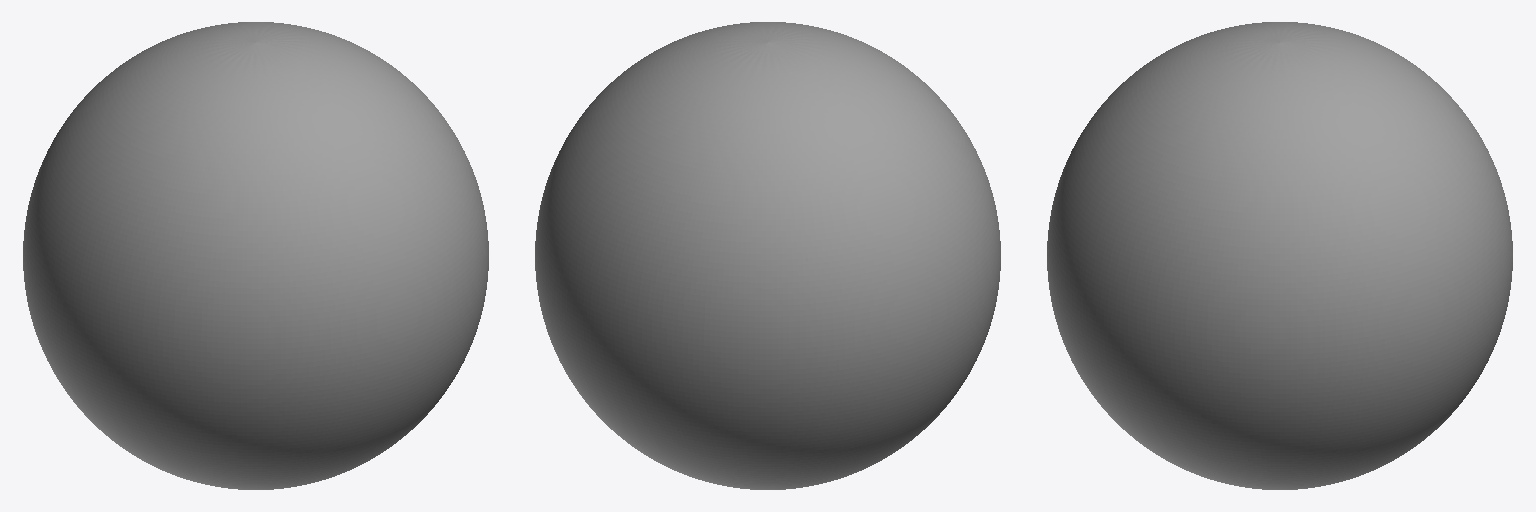
File: EARTH.obj
3 renders of one model, left to right at view 1: azimuth 30°, elevation 25°; view 2: azimuth 150°, elevation 25°; view 3: azimuth 270°, elevation 25°, orthographic.
Visible parts, largest first — view 1: Sphere.001; view 2: Sphere.001; view 3: Sphere.001.
Part boxes in pixels (x1,y1,x2,y2): Sphere.001: (23,22,488,489); Sphere.001: (535,22,1000,489); Sphere.001: (1047,22,1512,489).
Bounding box in the file's own units: 4.02 × 4.06 × 4.02.